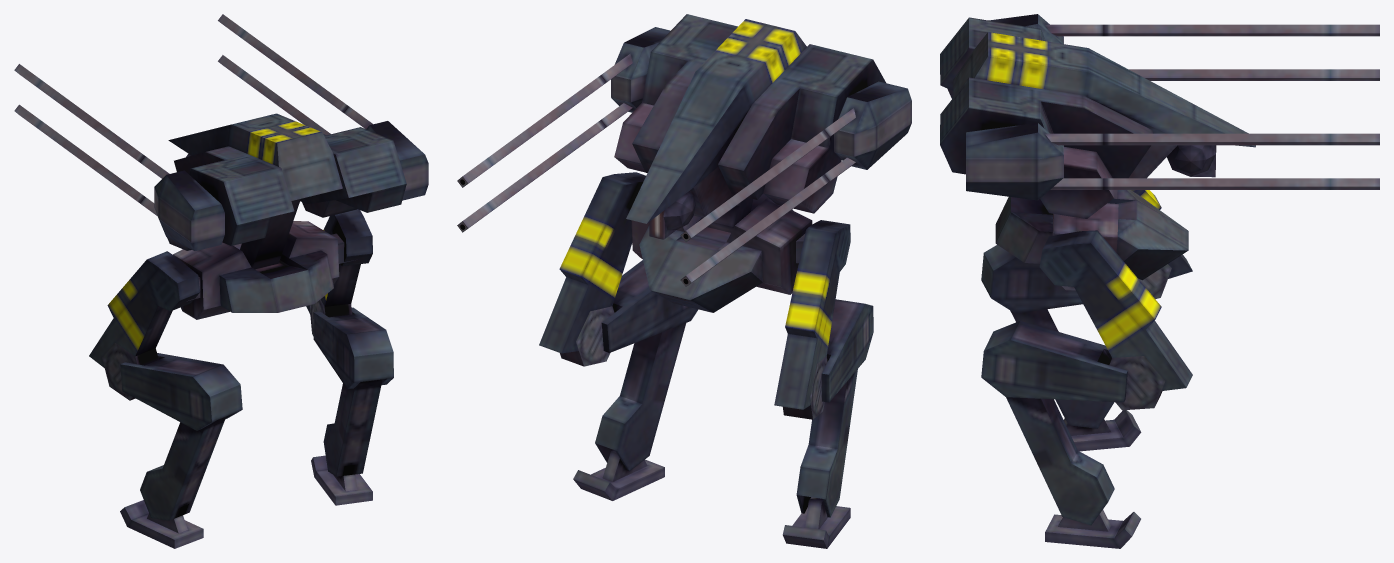
The model's file is DGZZ_enemy-rd05_c39055d1.glb.
3 renders of one model, left to right at view 1: azimuth 30°, elevation 25°; view 2: azimuth 150°, elevation 25°; view 3: azimuth 270°, elevation 25°, orthographic. The views are drawn at different scales.
Parts seen in each view (by area): view 1: rd05; view 2: rd05; view 3: rd05.
Part boxes in pixels (x1=…): rd05: x1=14, y1=14, x2=428, y2=548; rd05: x1=457, y1=14, x2=911, y2=548; rd05: x1=940, y1=14, x2=1379, y2=548.
Size of the model in its own units: 0.7178 by 1.16 by 1.04.
1 material, 1 textured.
